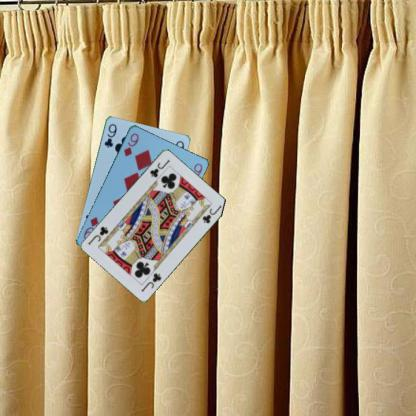9c: (102, 121, 118, 149)
9d: (121, 130, 140, 157)
Jc: (147, 156, 171, 178), (139, 270, 162, 292)
